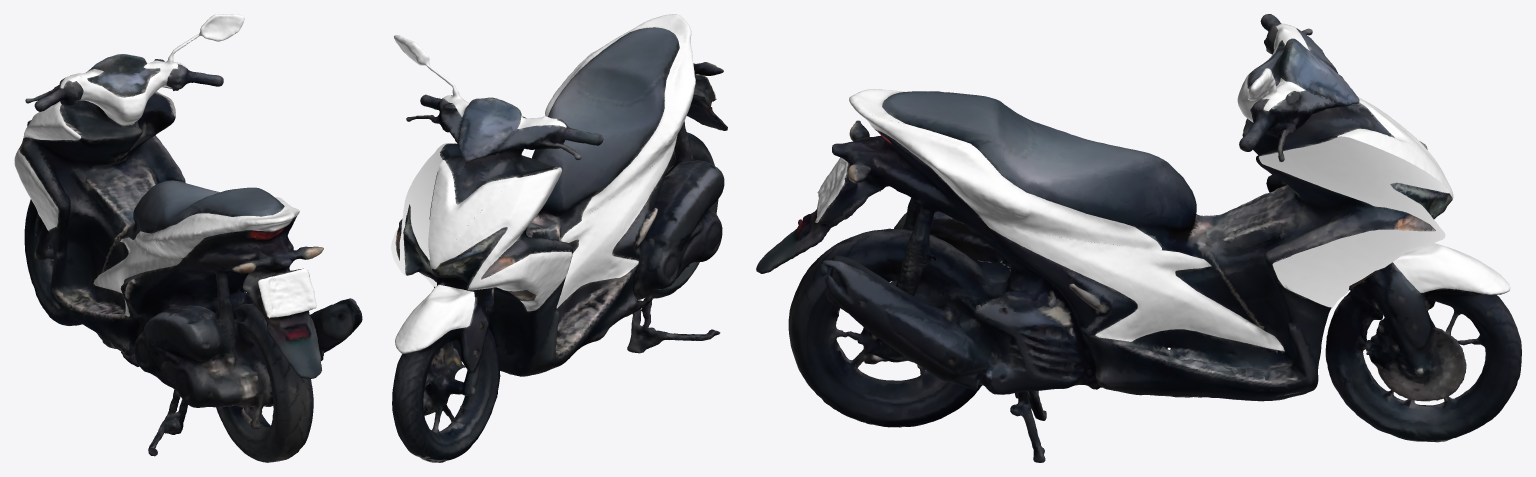
Rendered from yamaha-nvx.draco.glb.
3 renders of one model, left to right at view 1: azimuth 30°, elevation 25°; view 2: azimuth 150°, elevation 25°; view 3: azimuth 270°, elevation 25°, orthographic. The views are drawn at different scales.
Parts seen in each view (by area): view 1: 3DModel, C0 001, R3 001, R1 001, Nomer, R2 001, C3 001; view 2: 3DModel, R1 001, R2 001, R3 001, C1 001, C2 001, L1 001, C0 001, C3 001, L3 001; view 3: 3DModel, L1 001, L2 001, L3 001, C2 001, C1 001, C0 001, C3 001, Nomer.
Part boxes in pixels (x1,y1,x2,y2): 3DModel: (19, 54, 362, 462); C0 001: (60, 14, 244, 125); R3 001: (134, 213, 256, 258); R1 001: (14, 101, 80, 230); Nomer: (258, 268, 316, 318); R2 001: (93, 237, 182, 316); C3 001: (233, 206, 293, 231); 3DModel: (392, 27, 727, 462); R1 001: (440, 167, 572, 311); R2 001: (556, 135, 677, 308); R3 001: (581, 28, 695, 220); C1 001: (428, 160, 517, 269); C2 001: (395, 284, 474, 353); L1 001: (391, 143, 457, 287); C0 001: (394, 35, 566, 153); C3 001: (634, 14, 690, 47); L3 001: (545, 20, 649, 116); 3DModel: (756, 14, 1521, 462); L1 001: (1259, 136, 1449, 307); L2 001: (979, 215, 1284, 351); L3 001: (865, 115, 1161, 249); C2 001: (1393, 243, 1510, 294); C1 001: (1337, 98, 1453, 198); C0 001: (1237, 23, 1309, 122); C3 001: (849, 89, 904, 130); Nomer: (815, 157, 847, 222).
Bounding box in the file's own units: 0.5985 × 0.9228 × 1.48.
Materials: 2 (1 with a texture image).
